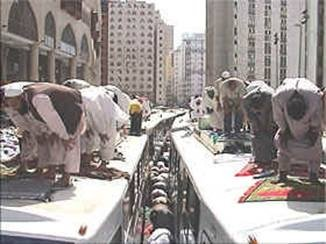ruku: (5, 79, 85, 191)
